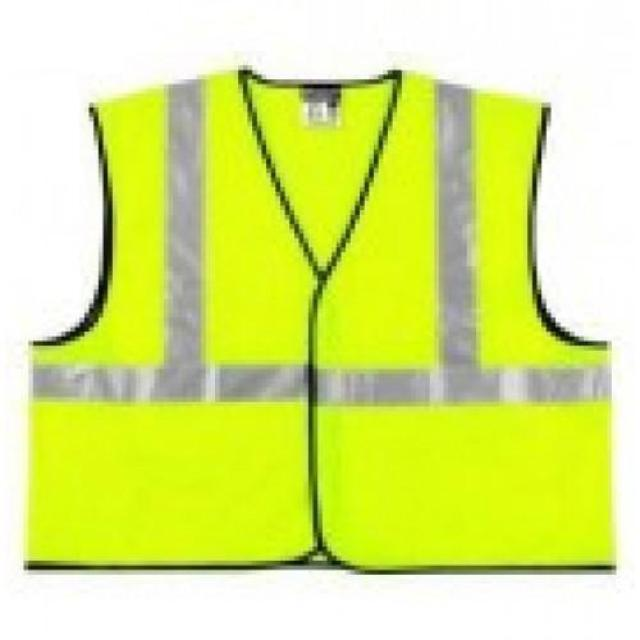Vest: (22, 55, 621, 577)
